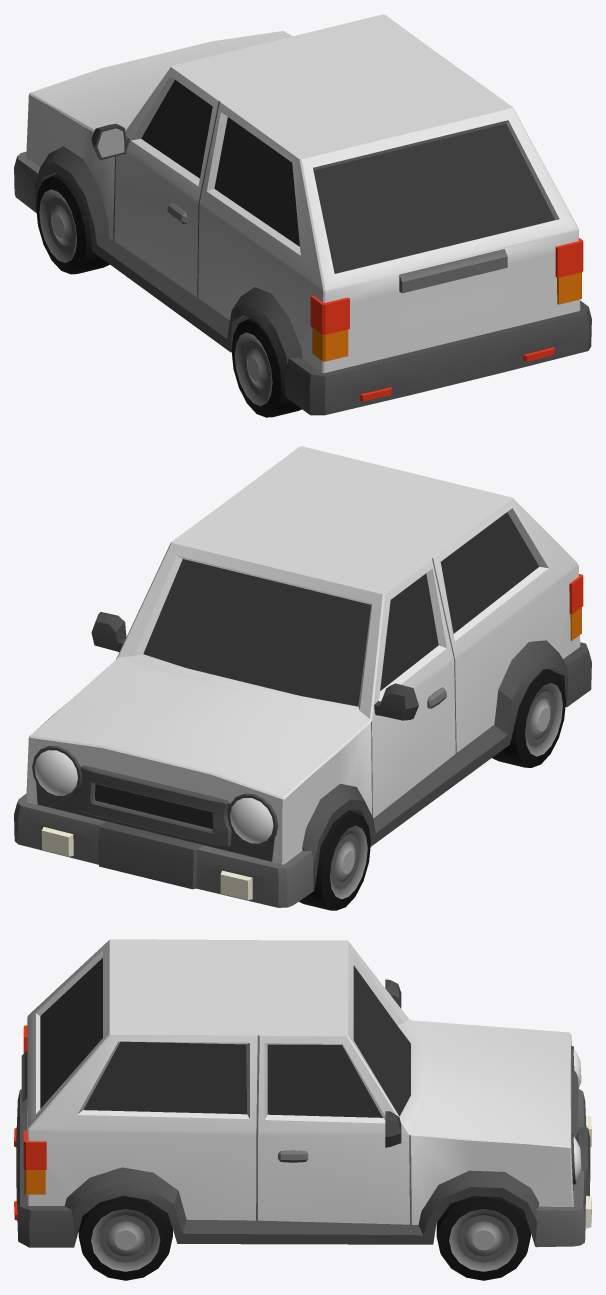
Rendered from Small Car.fbx.
3 views of the same model, one above another, from view 1: azimuth 30°, elevation 25°; view 2: azimuth 150°, elevation 25°; view 3: azimuth 270°, elevation 25° (orthographic). The views are drawn at different scales.
Parts seen in each view (by area): view 1: Car 1, FL_Wheel, BL_Wheel.001; view 2: Car 1, FL_Wheel, BL_Wheel.001; view 3: Car 1, FR_Wheel, BR_Wheel.
Part boxes in pixels (box(x1,y1,x2,y2)): Car 1: box(14, 14, 591, 415); FL_Wheel: box(36, 174, 109, 274); BL_Wheel.001: box(231, 318, 301, 417); Car 1: box(14, 446, 591, 907); FL_Wheel: box(299, 810, 370, 910); BL_Wheel.001: box(492, 669, 565, 767); Car 1: box(14, 939, 591, 1247); FR_Wheel: box(436, 1196, 530, 1280); BR_Wheel: box(78, 1195, 172, 1280).
Size of the model in its own units: 225 by 168 by 378.
